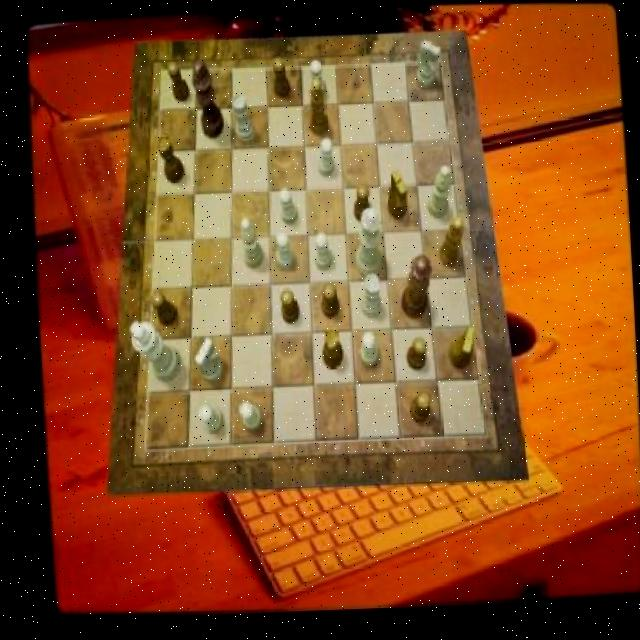bishop: (436, 220, 462, 272), (307, 80, 328, 138)
black-bishop: (191, 61, 223, 142)
black-king: (445, 329, 474, 373), (384, 171, 407, 223)
black-knight: (147, 292, 173, 327), (167, 62, 189, 103), (272, 59, 290, 100), (404, 394, 426, 427), (351, 187, 370, 225), (402, 342, 423, 375), (277, 291, 296, 326), (317, 286, 336, 321)
black-pawn: (396, 259, 431, 322)
black-queen: (155, 138, 184, 186), (318, 331, 341, 371)
black-rook: (424, 168, 451, 222), (238, 220, 261, 272)
white-bishop: (127, 322, 179, 384)
white-king: (191, 339, 221, 385), (413, 45, 441, 93)
white-knight: (272, 234, 291, 273), (194, 406, 219, 435), (312, 235, 331, 272), (277, 190, 296, 227), (307, 61, 325, 100), (235, 404, 259, 432), (356, 334, 375, 369), (316, 140, 333, 179)
white-pawn: (352, 211, 383, 281)
white-queen: (232, 96, 255, 145), (358, 277, 380, 321)
